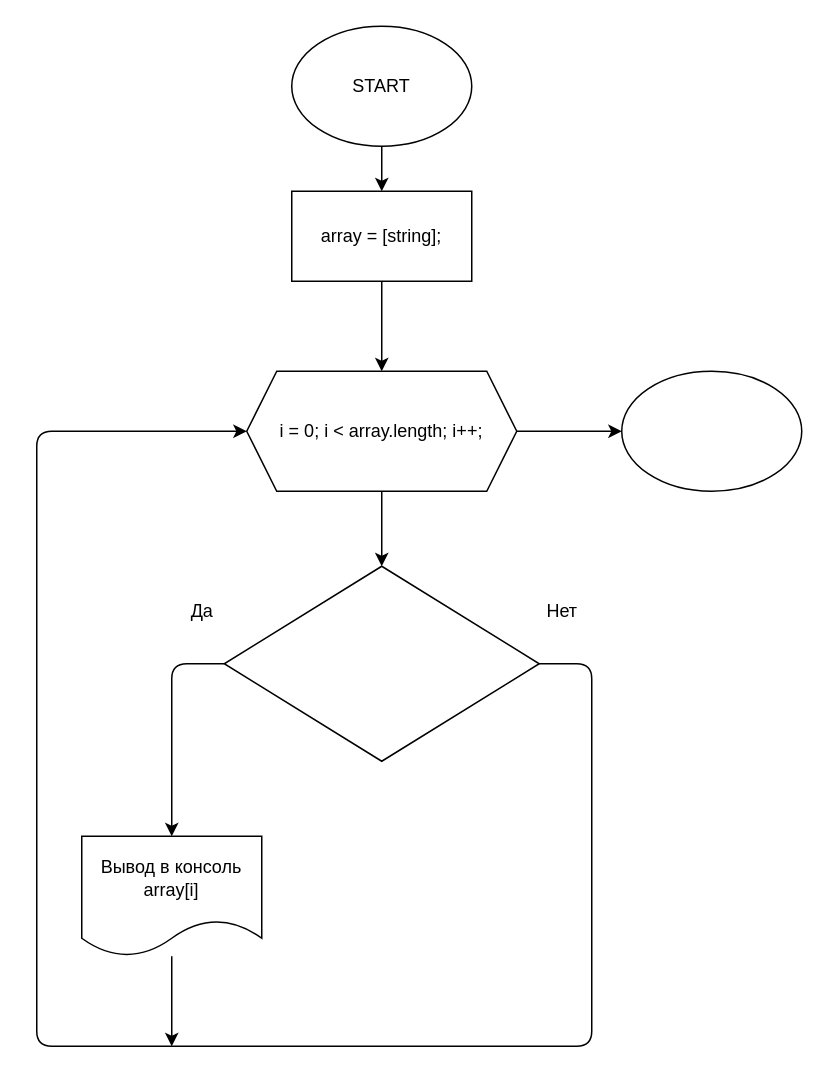
This 828x1085 diagram has some shape labels left out. The centre of each missing label's shape, as x and y in pixels:
array[i].length > 0 && array[i].length <= 3: the point at 381,663
FiINISH: the point at 711,430
